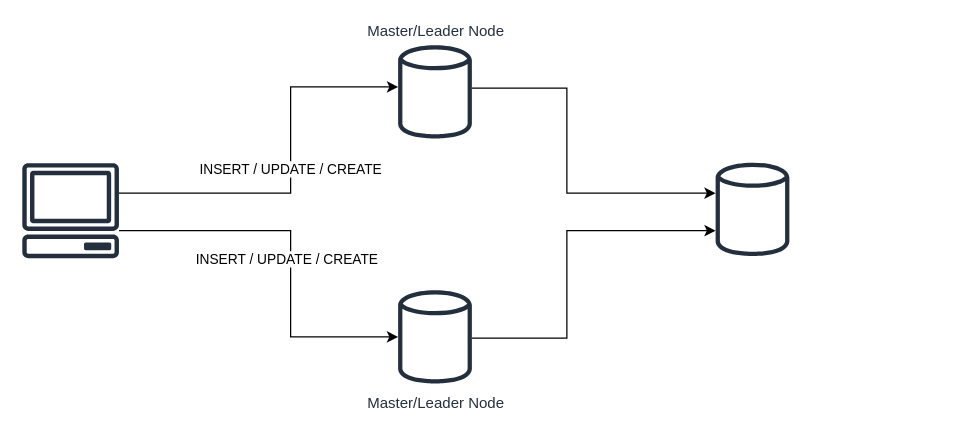
This 970x433 diagram has some shape labels left out. The box of each missing label's shape, as (x1, y1, x2, y2) in pixels:
Application: (21, 162, 119, 258)
Backup/Follower Node: (715, 160, 789, 258)
